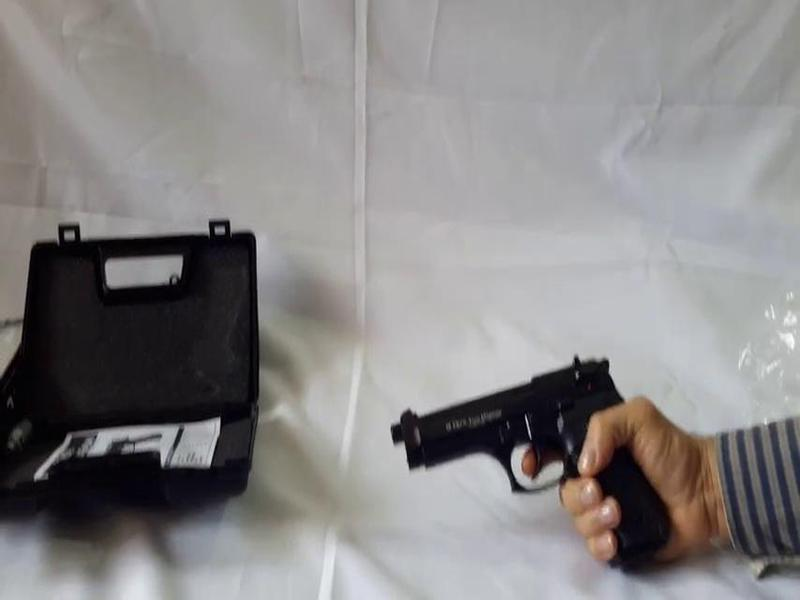Pistola: (364, 340, 698, 593)
